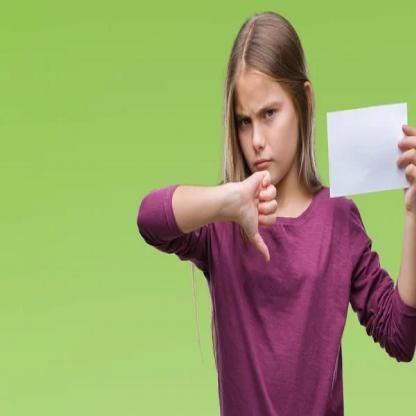thumb_down: (233, 164, 282, 264)
